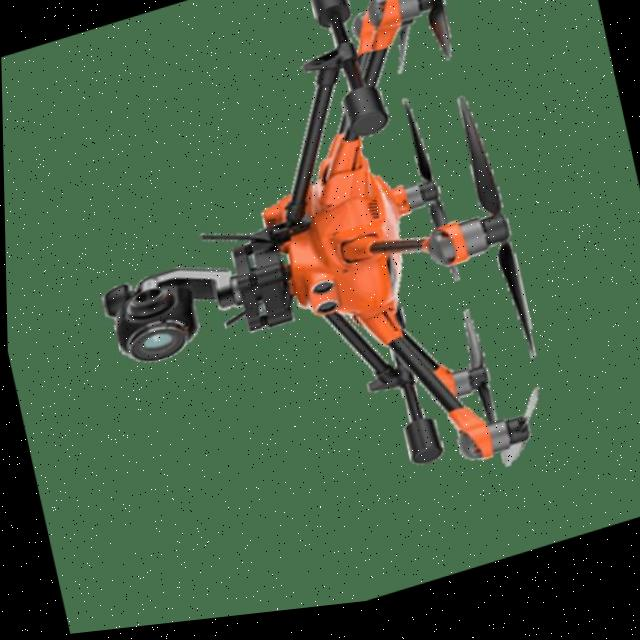drones: (24, 0, 591, 618)
